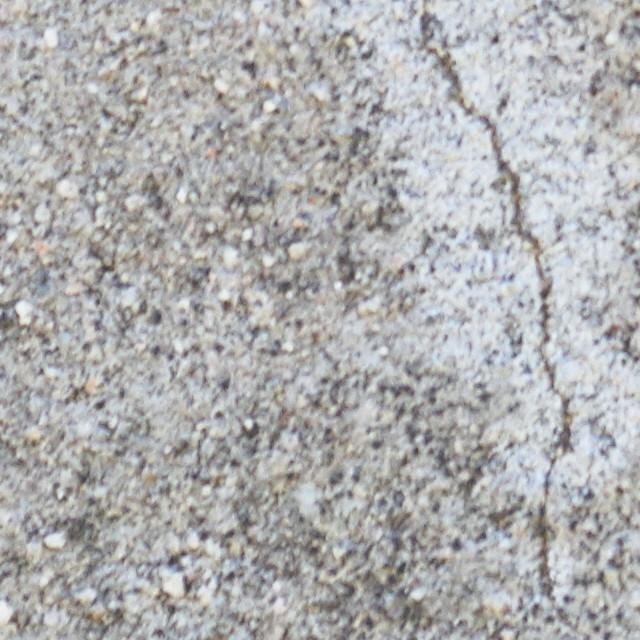vertical cracks: (421, 0, 572, 531)
